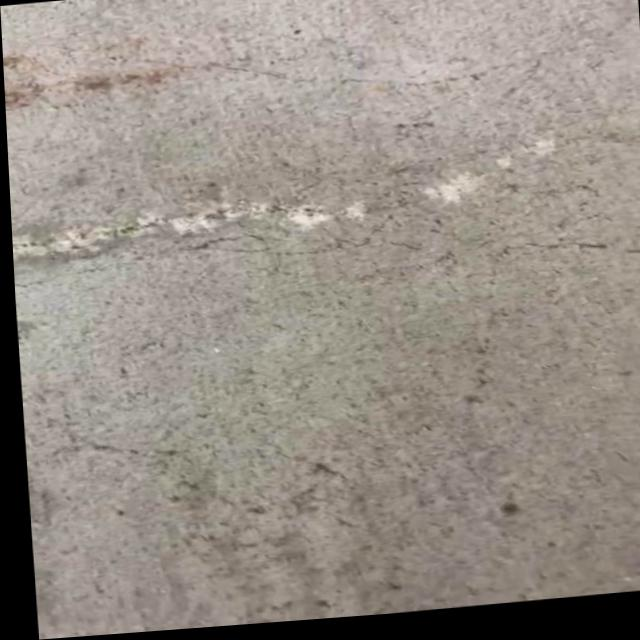Crack: (2, 48, 175, 106)
